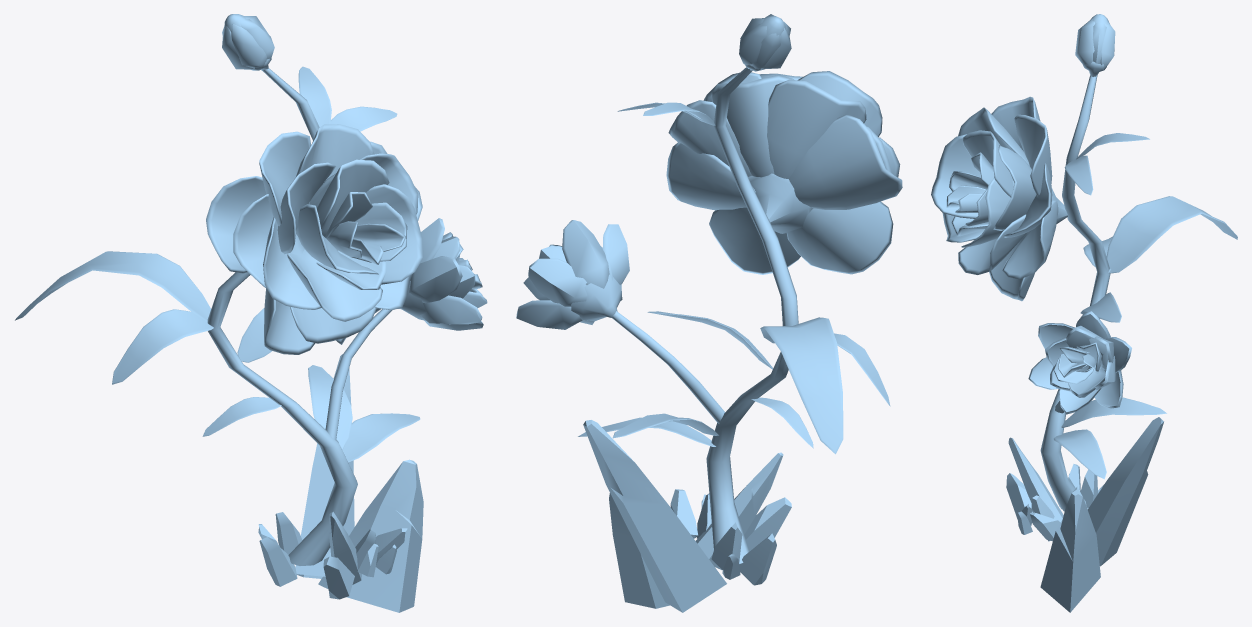
Rendered from Goal_Final.fbx.
3 views of the same model, side by side, from view 1: azimuth 30°, elevation 25°; view 2: azimuth 150°, elevation 25°; view 3: azimuth 270°, elevation 25° (orthographic). The views are drawn at different scales.
Visible parts, largest first — view 1: pCylinder7, polySurface12, pPlane14, pCube34, pCube43, pPlane11, polySurface15, pCube37, pCube38, pCube30, pCube41, pCube33 (+27 smaller); view 2: polySurface15, pCylinder7, pCube43, pPlane14, pCube44, pCube37, pCube42, pCube33, pCube40, polySurface12, pCone3, pCube36 (+19 smaller); view 3: pCylinder7, polySurface12, polySurface15, pPlane14, pCube42, pCube29, pCube31, pCube33, pCube35, group4_pCube6, pCube23, pPlane7 (+26 smaller).
Boxes of the visible parts, box(x1,y1,x2,y2) form: pCylinder7: box(207, 68, 357, 565); polySurface12: box(318, 459, 423, 612); pPlane14: box(15, 251, 210, 322); pCube34: box(287, 249, 382, 321); pCube43: box(206, 176, 266, 273); pPlane11: box(112, 309, 213, 384); polySurface15: box(295, 354, 354, 578); pCube37: box(259, 131, 310, 226); pCube38: box(263, 217, 321, 309); pCube30: box(337, 184, 423, 284); pCube41: box(233, 194, 296, 288); pCube33: box(296, 124, 374, 204); polySurface15: box(583, 420, 726, 612); pCylinder7: box(706, 67, 798, 563); pCube43: box(789, 114, 902, 209); pPlane14: box(760, 317, 843, 454); pCube44: box(786, 201, 893, 274); pCube37: box(767, 79, 866, 178); pCube42: box(666, 142, 755, 210); pCube33: box(712, 74, 793, 177); pCube40: box(709, 207, 800, 274); polySurface12: box(609, 493, 669, 608); pCone3: box(748, 173, 813, 233); pCube36: box(668, 100, 751, 176); pCylinder7: box(1040, 75, 1110, 511); polySurface12: box(1040, 487, 1100, 612); polySurface15: box(1087, 417, 1163, 566); pPlane14: box(1106, 196, 1237, 273); pCube42: box(1002, 200, 1058, 279); pCube29: box(931, 134, 980, 218); pCube31: box(993, 145, 1036, 230); pCube33: box(1014, 114, 1052, 196); pCube35: box(958, 214, 1026, 274); group4_pCube6: box(1075, 18, 1115, 69); pCube23: box(963, 130, 1013, 197); pPlane7: box(1054, 429, 1106, 479).
Size of the model in its own units: 412 by 643 by 337.
